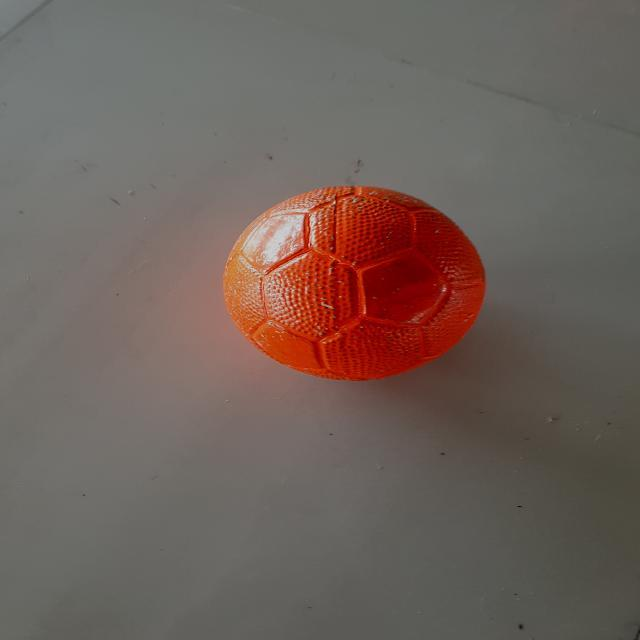bola: (213, 174, 498, 390)
